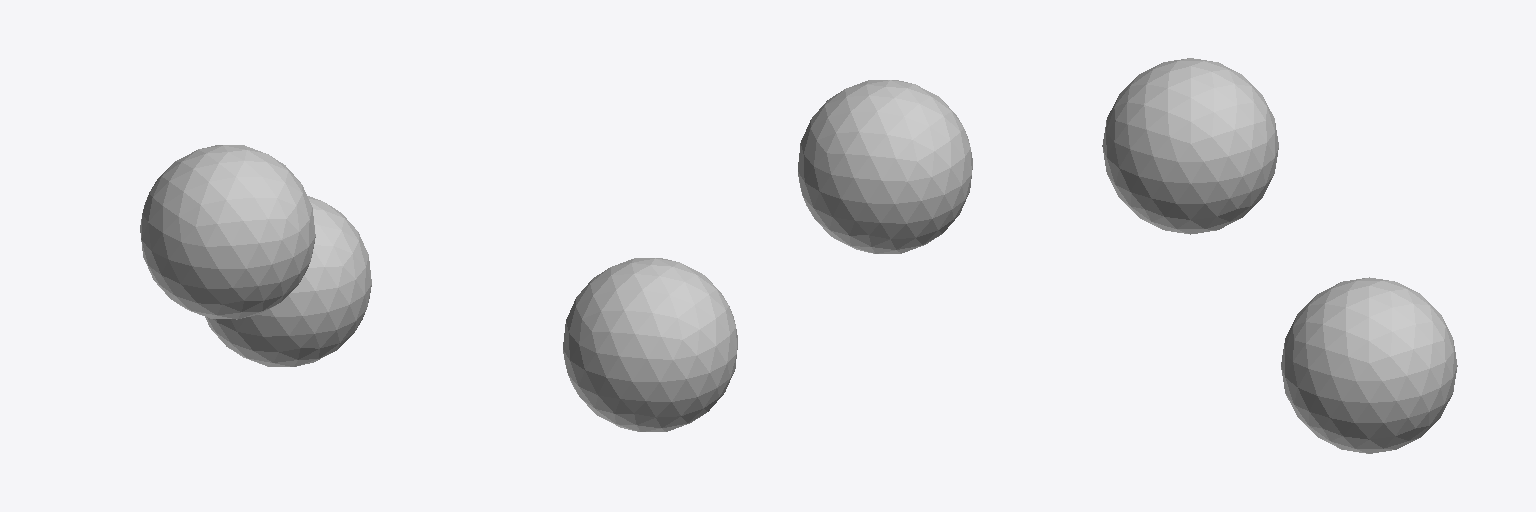
The model's file is balls.obj.
The picture shows the model from 3 angles: view 1: azimuth 30°, elevation 25°; view 2: azimuth 150°, elevation 25°; view 3: azimuth 270°, elevation 25°; orthographic projection.
Visible parts, largest first — view 1: Icosphere.001, Icosphere; view 2: Icosphere, Icosphere.001; view 3: Icosphere, Icosphere.001.
Boxes of the visible parts, x1,y1,x2,y2 form: Icosphere.001: [140, 145, 315, 319]; Icosphere: [205, 196, 371, 366]; Icosphere: [563, 258, 737, 431]; Icosphere.001: [798, 80, 972, 253]; Icosphere: [1281, 277, 1457, 453]; Icosphere.001: [1102, 58, 1278, 234].
Size of the model in its own units: 3.9 by 3.85 by 4.02.